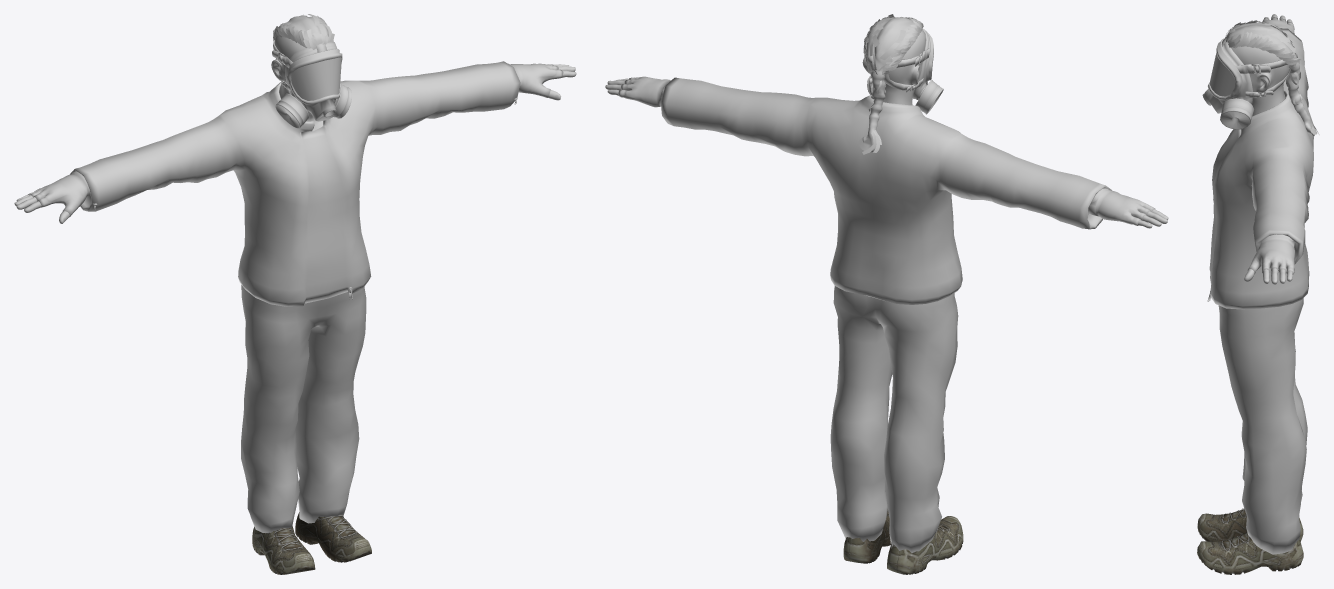
The model's file is MALE_CH.obj.
The picture shows the model from 3 angles, left to right: view 1: azimuth 30°, elevation 25°; view 2: azimuth 150°, elevation 25°; view 3: azimuth 270°, elevation 25°; orthographic projection.
Parts seen in each view (by area): view 1: Tops, Bottoms, Masks, Shoes, Gloves, Body, Hair; view 2: Tops, Bottoms, Hair, Shoes, Gloves, Body, Masks; view 3: Tops, Bottoms, Shoes, Masks, Hair, Body, Gloves.
Part boxes in pixels (<box>): Tops: <box>70,61,520,306</box>; Bottoms: <box>241,285,366,532</box>; Masks: <box>272,35,351,128</box>; Shoes: <box>252,512,371,574</box>; Gloves: <box>28,63,563,217</box>; Body: <box>14,36,576,223</box>; Hair: <box>273,14,334,49</box>; Tops: <box>660,77,1111,304</box>; Bottoms: <box>830,286,958,552</box>; Hair: <box>859,14,923,154</box>; Shoes: <box>843,509,963,574</box>; Gloves: <box>618,76,1155,225</box>; Body: <box>605,30,1168,228</box>; Masks: <box>863,29,943,114</box>; Tops: <box>1207,28,1313,309</box>; Bottoms: <box>1218,298,1307,554</box>; Shoes: <box>1197,508,1303,574</box>; Masks: <box>1202,33,1290,129</box>; Hair: <box>1225,20,1319,135</box>; Body: <box>1231,14,1292,284</box>; Gloves: <box>1247,17,1294,274</box>.
Bounding box in the file's own units: 201 × 183 × 38.53.
